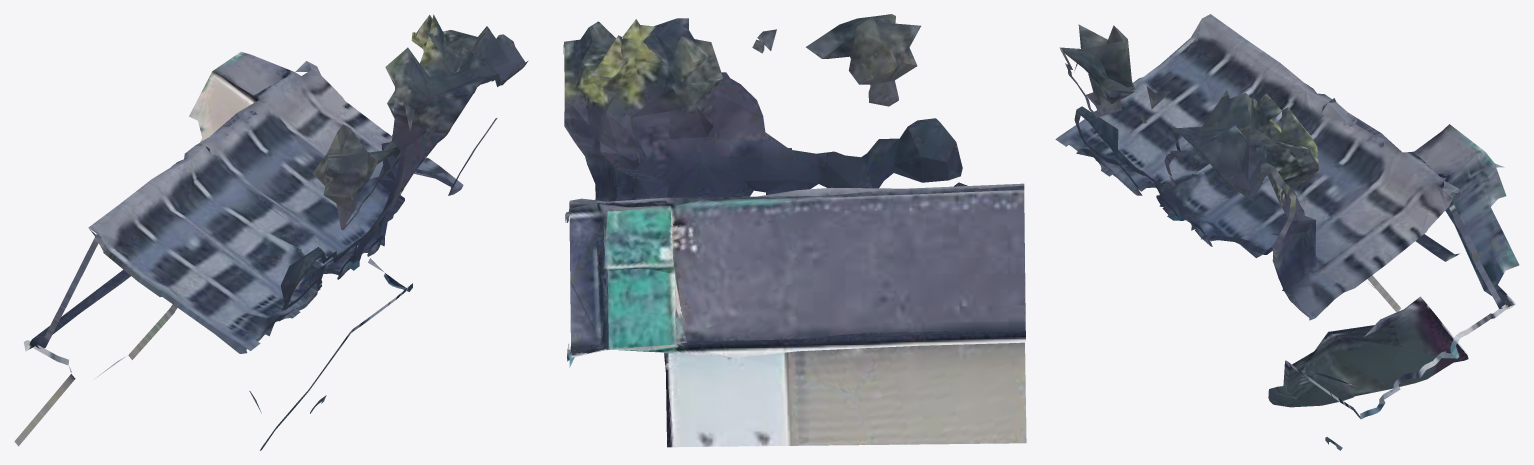
3 renders of one model, left to right at view 1: azimuth 30°, elevation 25°; view 2: azimuth 150°, elevation 25°; view 3: azimuth 270°, elevation 25°, orthographic. The views are drawn at different scales.
Size of the model in its own units: 42.53 by 32.63 by 34.68.
2 materials, 2 textured.
